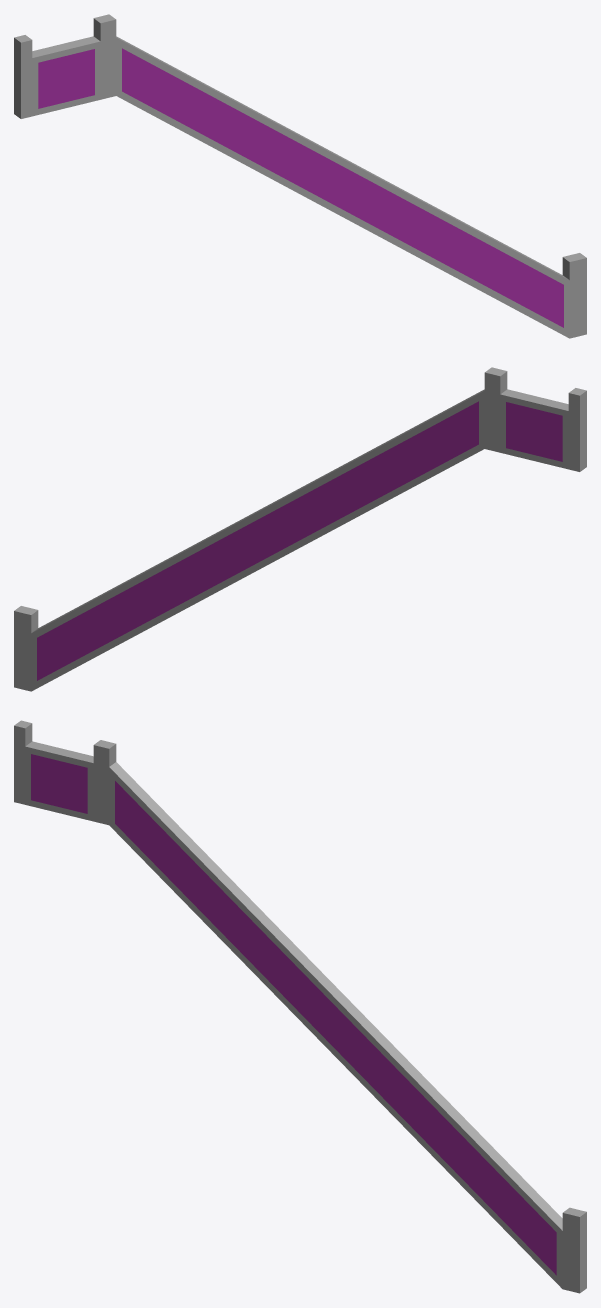
The model's file is Railing.fbx.
3 renders of one model, top to bottom at view 1: azimuth 30°, elevation 25°; view 2: azimuth 150°, elevation 25°; view 3: azimuth 330°, elevation 25°, orthographic.
Visible parts, largest first — view 1: pasted__pCube6; view 2: pasted__pCube6; view 3: pasted__pCube6.
Boxes of the visible parts, box(x1,y1,x2,y2) form: pasted__pCube6: box(14, 14, 586, 338); pasted__pCube6: box(14, 367, 586, 691); pasted__pCube6: box(14, 720, 586, 1293).
Bounding box in the file's own units: 9.79 × 7.11 × 0.2121.
